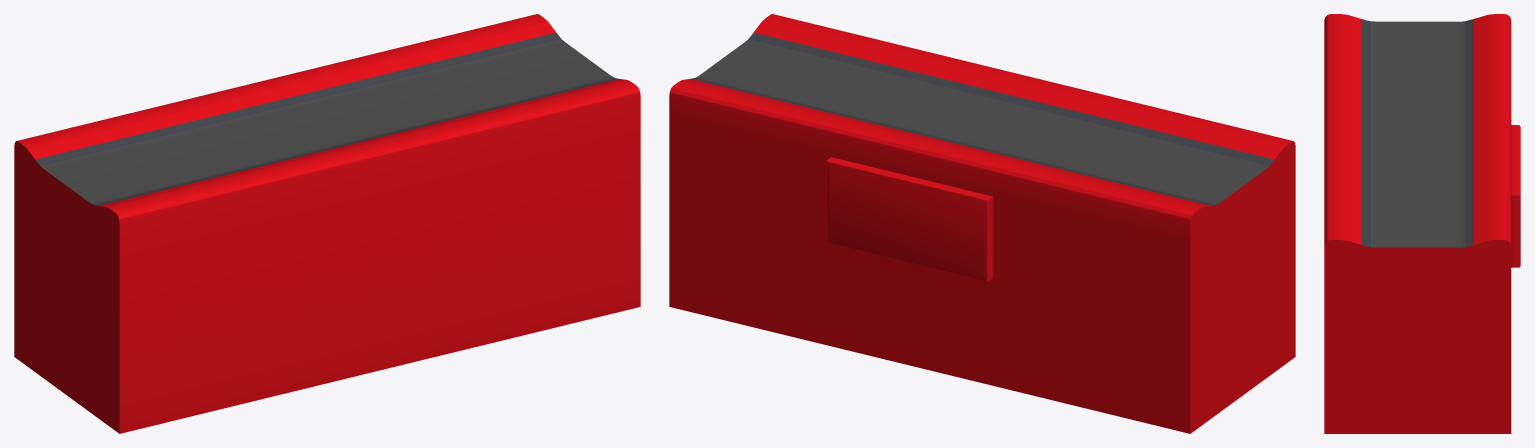
File: Дорожка для финиша.fbx
3 renders of one model, left to right at view 1: azimuth 30°, elevation 25°; view 2: azimuth 150°, elevation 25°; view 3: azimuth 270°, elevation 25°, orthographic. The views are drawn at different scales.
Parts seen in each view (by area): view 1: Cube.001; view 2: Cube.001; view 3: Cube.001.
Boxes of the visible parts, x1,y1,x2,y2 form: Cube.001: (14, 14, 640, 433); Cube.001: (669, 14, 1295, 433); Cube.001: (1324, 14, 1520, 433).
Size of the model in its own units: 2000 by 800 by 735.
